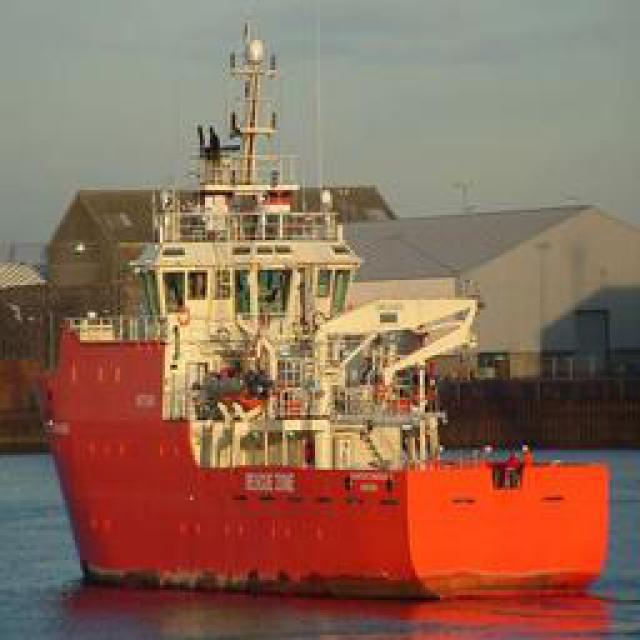Ship: (38, 39, 620, 600)
